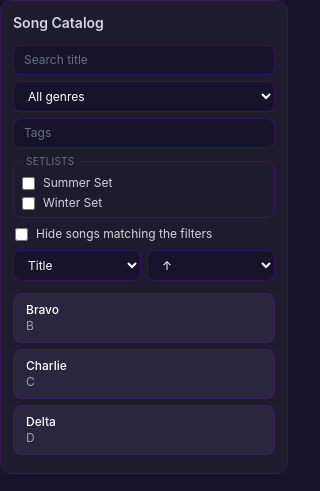
Test: SongCatalogPanel — multi-select setlist filter › invert hides the union; current-setlist songs stay hidden
Expected: the text "Bravo" is shown, [26, 302, 59, 317]
# Select only Summer (s1,s2).
What coordinates should you click on to do the following:
click the checkbox labelled "Summer Set"
I would click on:
 (28, 183)
Its box is [22, 176, 35, 190].
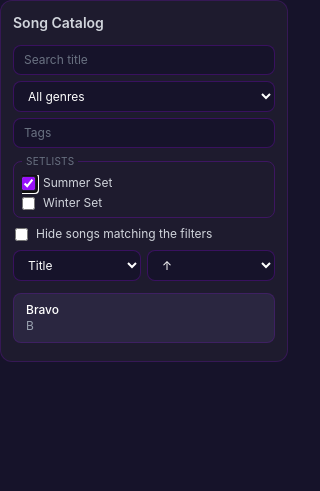
Expected: the text "Bravo" is shown, [26, 302, 59, 317]
Expected: the button "Charlie" is gone
What coordinates should you click on to do the following:
click the checkbox labelled "Hide songs matching the filters"
I would click on:
 (22, 234)
Its box is [15, 228, 28, 240].
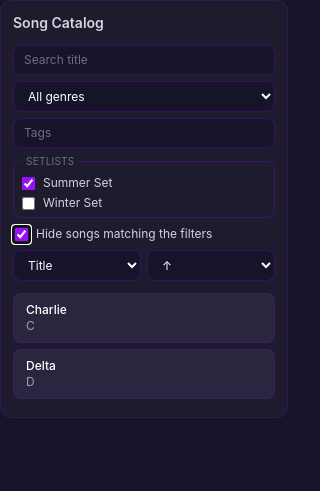
Expected: the text "Charlie" is shown, [26, 302, 67, 317]
Expected: the text "Delta" is shown, [26, 358, 56, 373]
Expected: the button "Bravo" is gone
